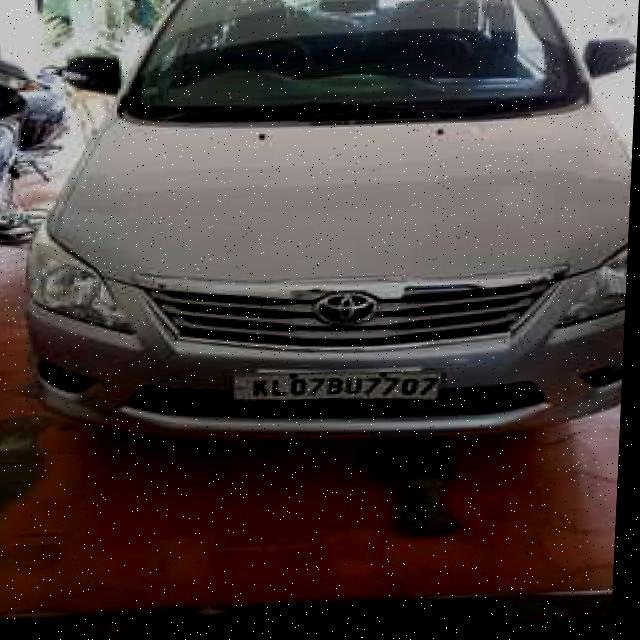plate: (238, 370, 450, 409)
